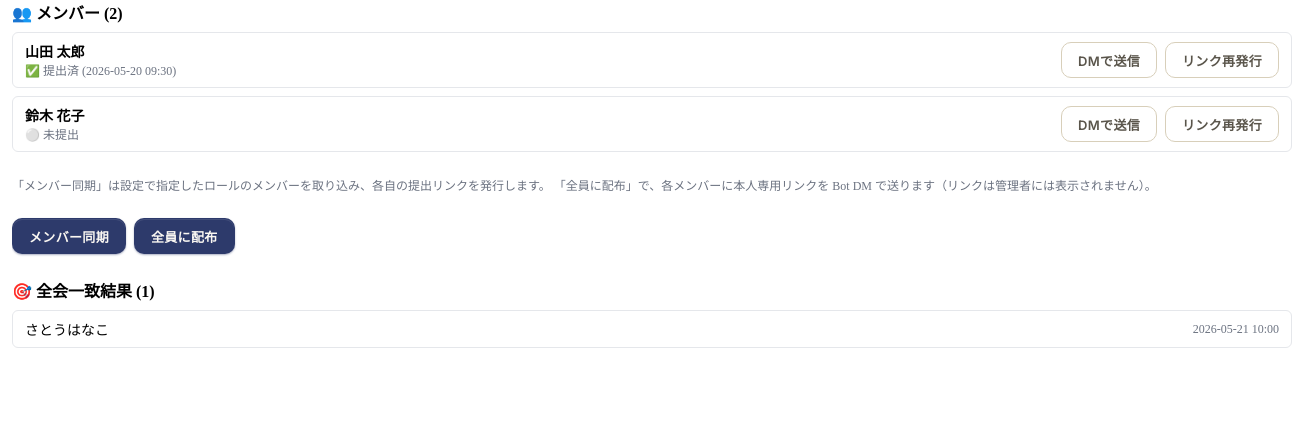
Test: WhitelistAdminTab smoke (宗教 PR6) › 「全員に配布」で POST whitelist/distribute が打たれる (Bot DM 配布)
Check: the text "山田 太郎" is shown, box [25,45,84,60]
Click the button "全員に配布". click: (184, 236)
box: [134,218,235,254]
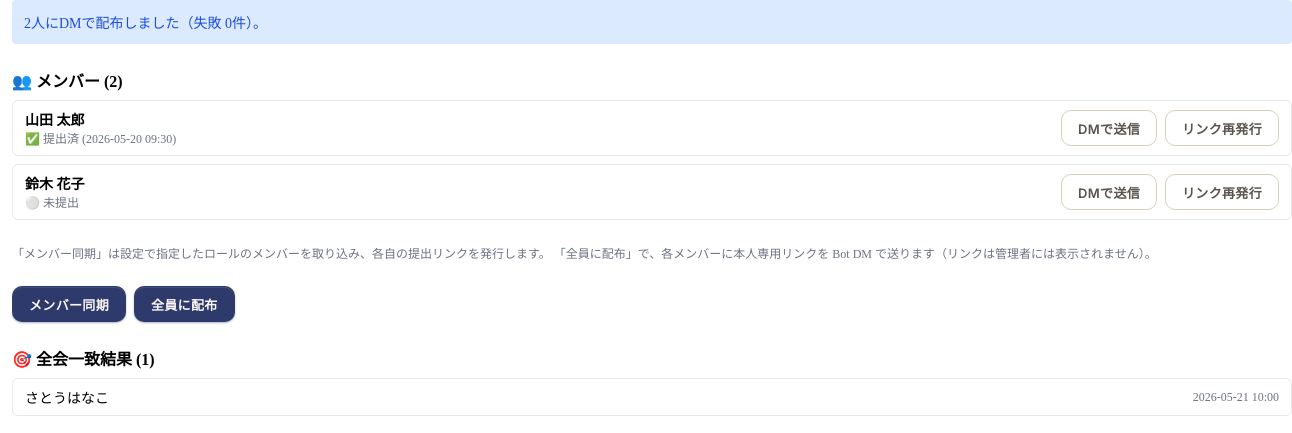
Check: the text "2人にDMで配布しました（失敗 0件）。" is shown, box [12,0,1291,44]
